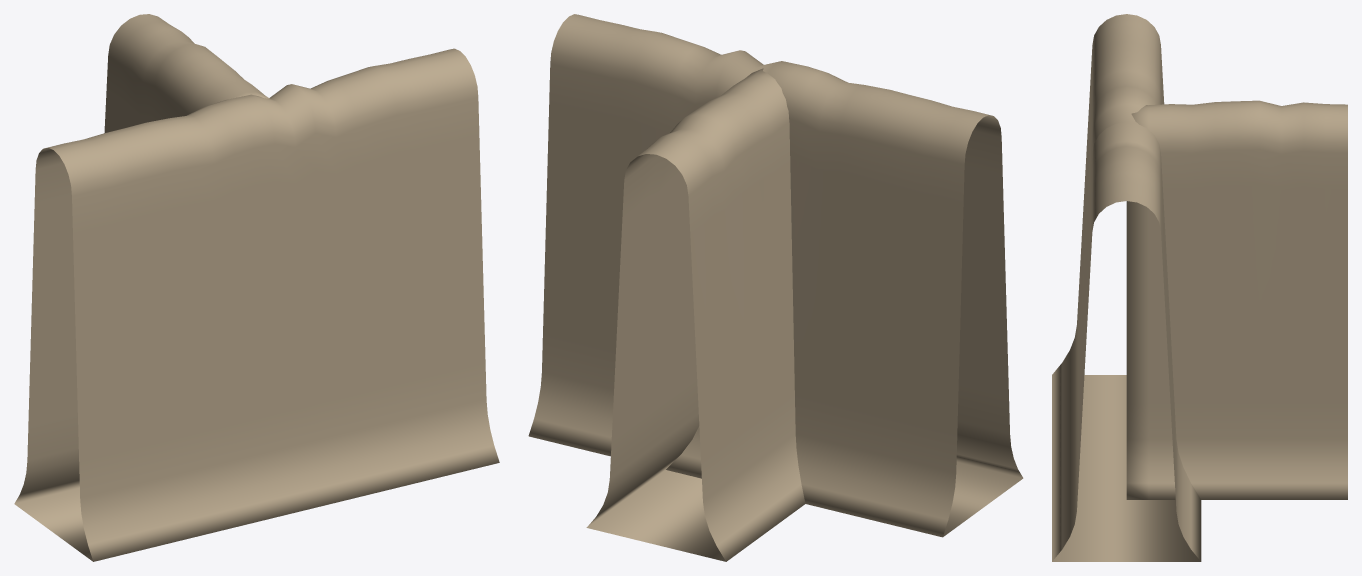
Rendered from KFB_Wall_tee.r1.glb.
3 renders of one model, left to right at view 1: azimuth 30°, elevation 25°; view 2: azimuth 150°, elevation 25°; view 3: azimuth 270°, elevation 25°, orthographic. The views are drawn at different scales.
Parts seen in each view (by area): view 1: KFB_Wall_tee; view 2: KFB_Wall_tee; view 3: KFB_Wall_tee.
Boxes of the visible parts, x1,y1,x2,y2 form: KFB_Wall_tee: [14, 14, 499, 561]; KFB_Wall_tee: [528, 14, 1023, 561]; KFB_Wall_tee: [1052, 14, 1347, 561].
Bounding box in the file's own units: 4 × 3.64 × 2.68.
